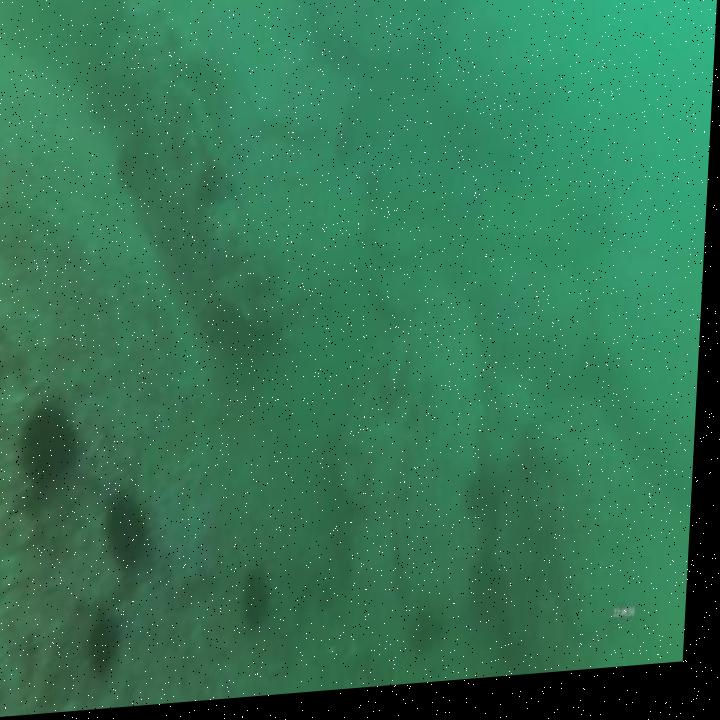echinus: (17, 394, 85, 497), (105, 486, 161, 584), (87, 612, 132, 686), (113, 134, 154, 202), (244, 567, 281, 640), (414, 606, 454, 672), (468, 476, 508, 536), (473, 558, 508, 610), (198, 163, 229, 216), (359, 168, 388, 220), (332, 132, 356, 175)
